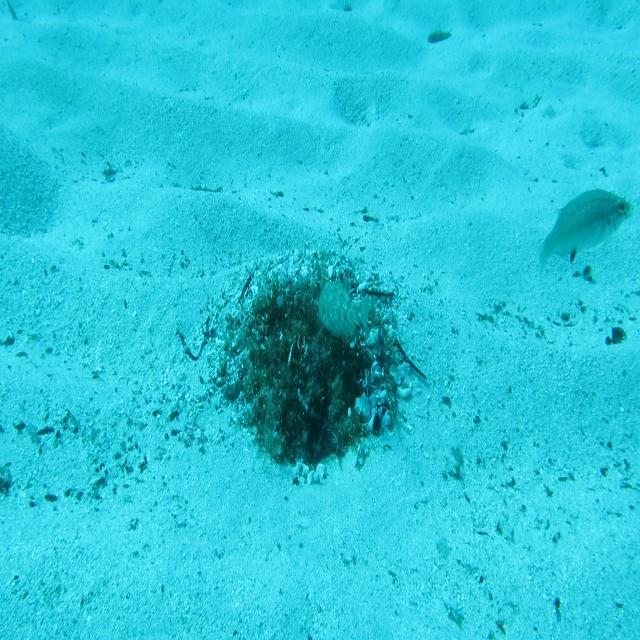NIP_CORE: (314, 274, 373, 350)
core_nest: (279, 296, 335, 344)
female: (533, 181, 636, 273)
nest: (198, 239, 418, 497)
vegetation: (604, 322, 628, 347)
